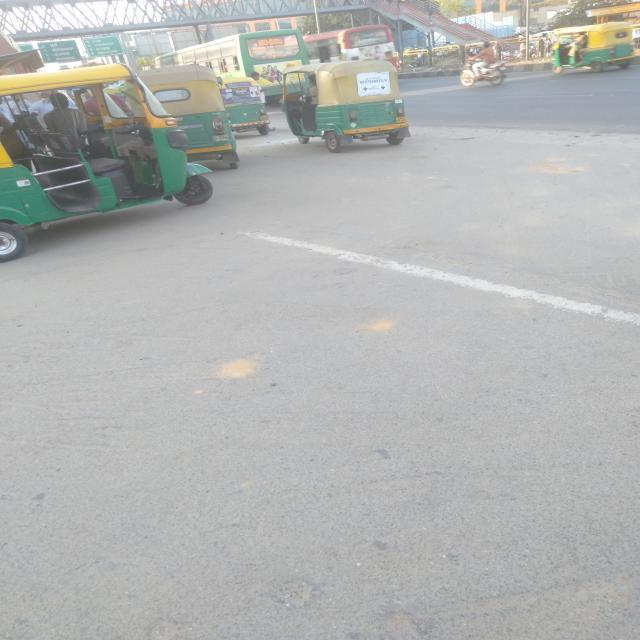auto_back: (284, 55, 418, 154), (131, 63, 242, 180), (536, 23, 640, 74), (216, 64, 270, 138)
